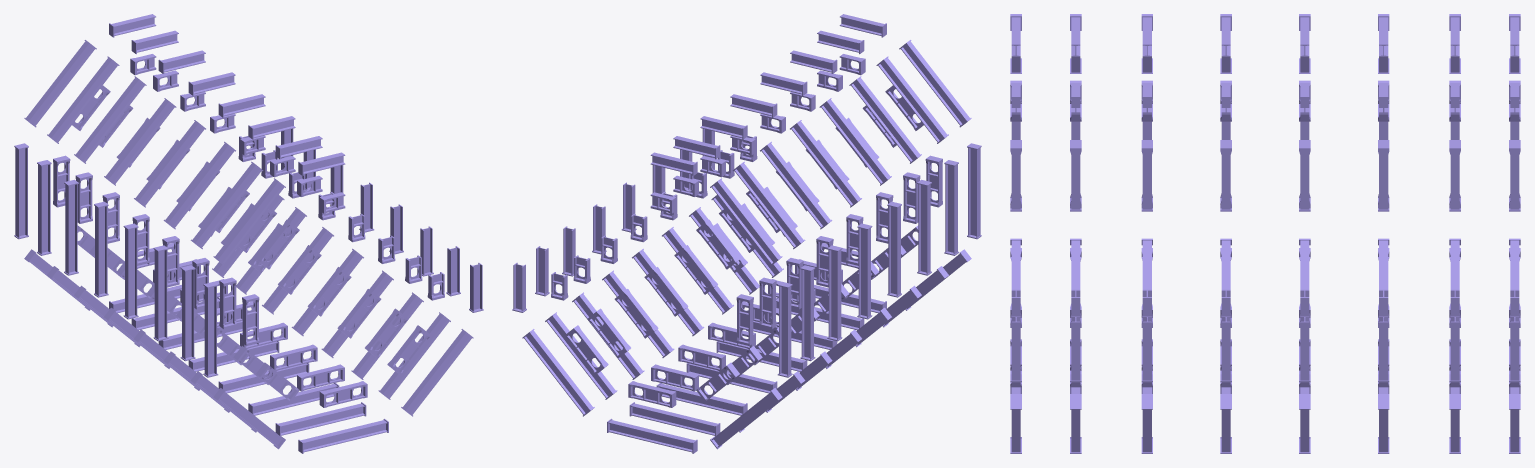
File: Warm-Structure-cut3.glb
3 views of the same model, side by side, from view 1: azimuth 30°, elevation 25°; view 2: azimuth 150°, elevation 25°; view 3: azimuth 270°, elevation 25° (orthographic). The views are drawn at different scales.
Parts seen in each view (by area): view 1: null; view 2: null; view 3: null.
Part boxes in pixels (box(x1,y1,x2,y2)): null: box(14, 14, 483, 453); null: box(512, 14, 981, 453); null: box(1010, 14, 1520, 453).
Bounding box in the file's own units: 18.28 × 18.28 × 22.19.
